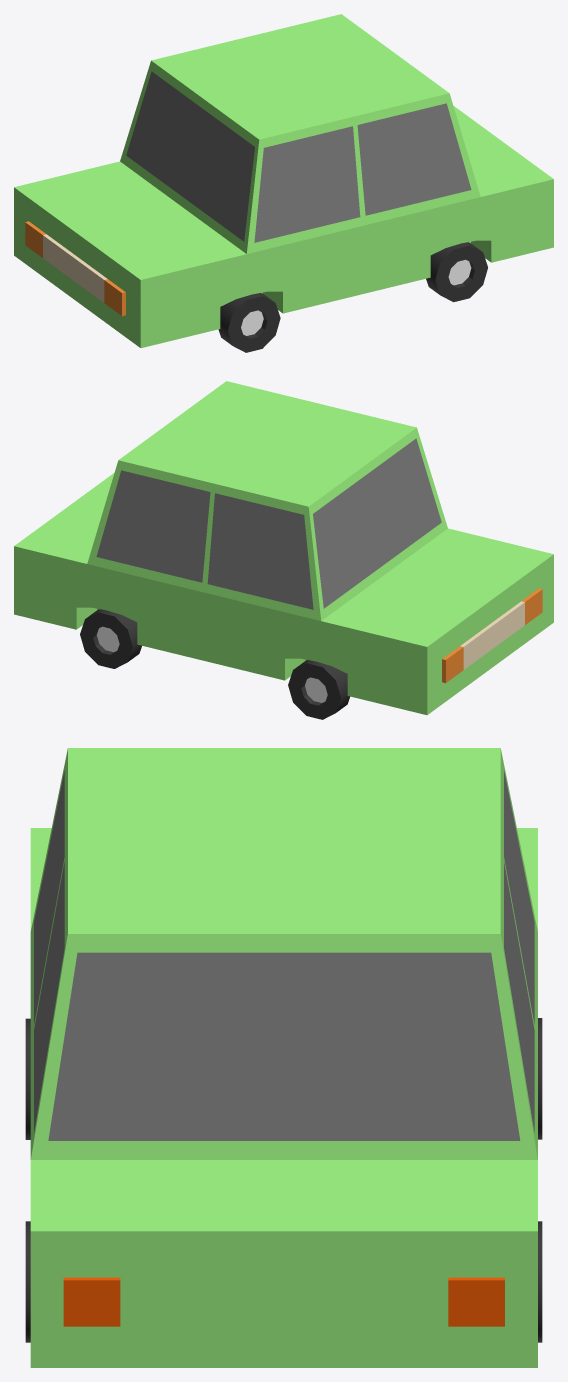
File: Car 01.FBX
The picture shows the model from 3 angles, top to bottom: view 1: azimuth 30°, elevation 25°; view 2: azimuth 150°, elevation 25°; view 3: azimuth 270°, elevation 25°; orthographic projection. The views are drawn at different scales.
Parts seen in each view (by area): view 1: Box001, Cylinder002, Cylinder001; view 2: Box001, Cylinder004, Cylinder003; view 3: Box001.
Boxes of the visible parts, x1,y1,x2,y2 form: Box001: (14, 14, 553, 347); Cylinder002: (218, 293, 280, 352); Cylinder001: (426, 242, 487, 302); Box001: (14, 381, 553, 714); Cylinder004: (288, 660, 349, 719); Cylinder003: (80, 609, 141, 668); Box001: (30, 748, 537, 1367).
Size of the model in its own units: 23.1 by 10.5 by 12.31.
